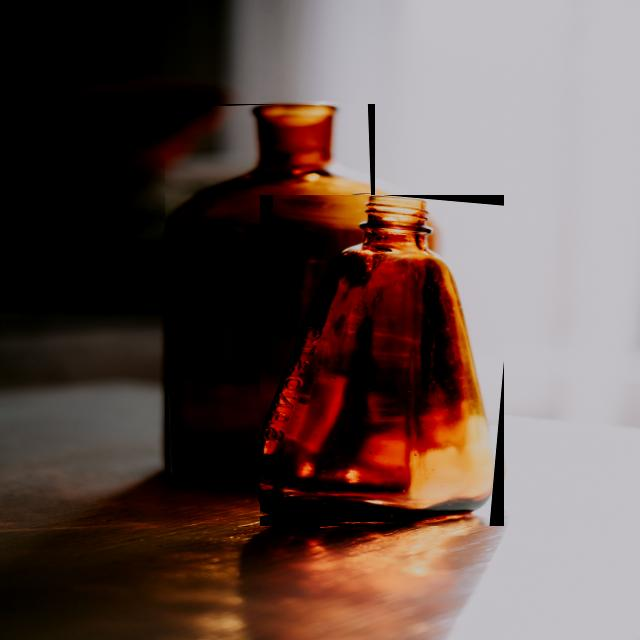Bottle: (259, 196, 503, 525), (165, 105, 374, 483)
